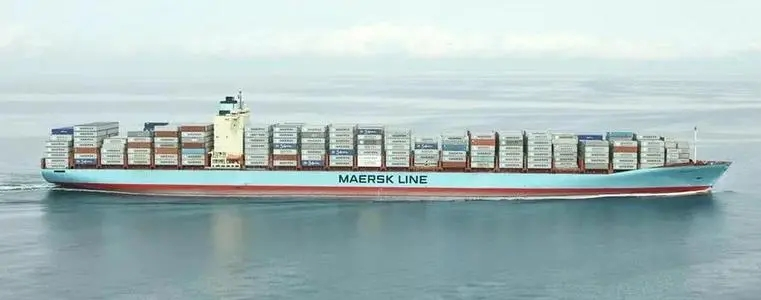Cargoship: (38, 89, 735, 200)
